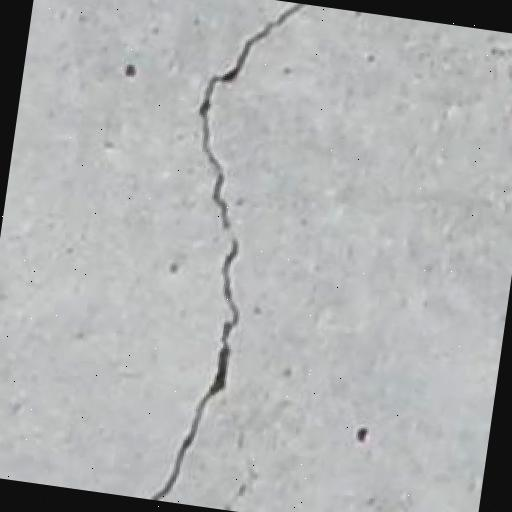spalling: (144, 8, 315, 495)
